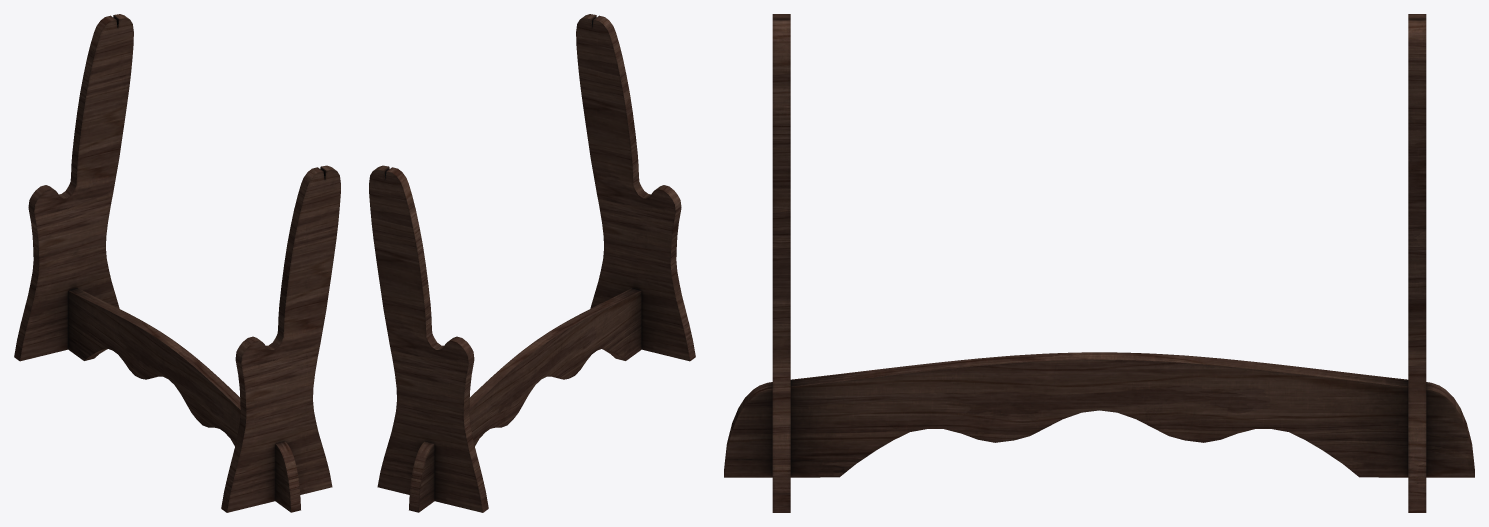
Rendered from Stand.fbx.
3 renders of one model, left to right at view 1: azimuth 30°, elevation 25°; view 2: azimuth 150°, elevation 25°; view 3: azimuth 270°, elevation 25°, orthographic. The views are drawn at different scales.
Visible parts, largest first — view 1: StandPinkHeart; view 2: StandPinkHeart; view 3: StandPinkHeart.
Part boxes in pixels (x1,y1,x2,y2): StandPinkHeart: (14, 14, 340, 512); StandPinkHeart: (369, 14, 695, 512); StandPinkHeart: (724, 14, 1474, 512).
Bounding box in the file's own units: 0.1019 × 0.2718 × 0.3789.
